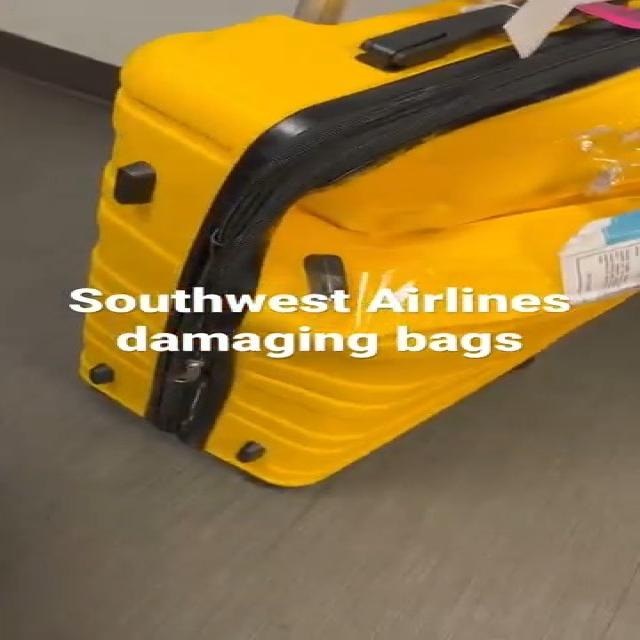Damage-bag: (264, 108, 638, 328)
